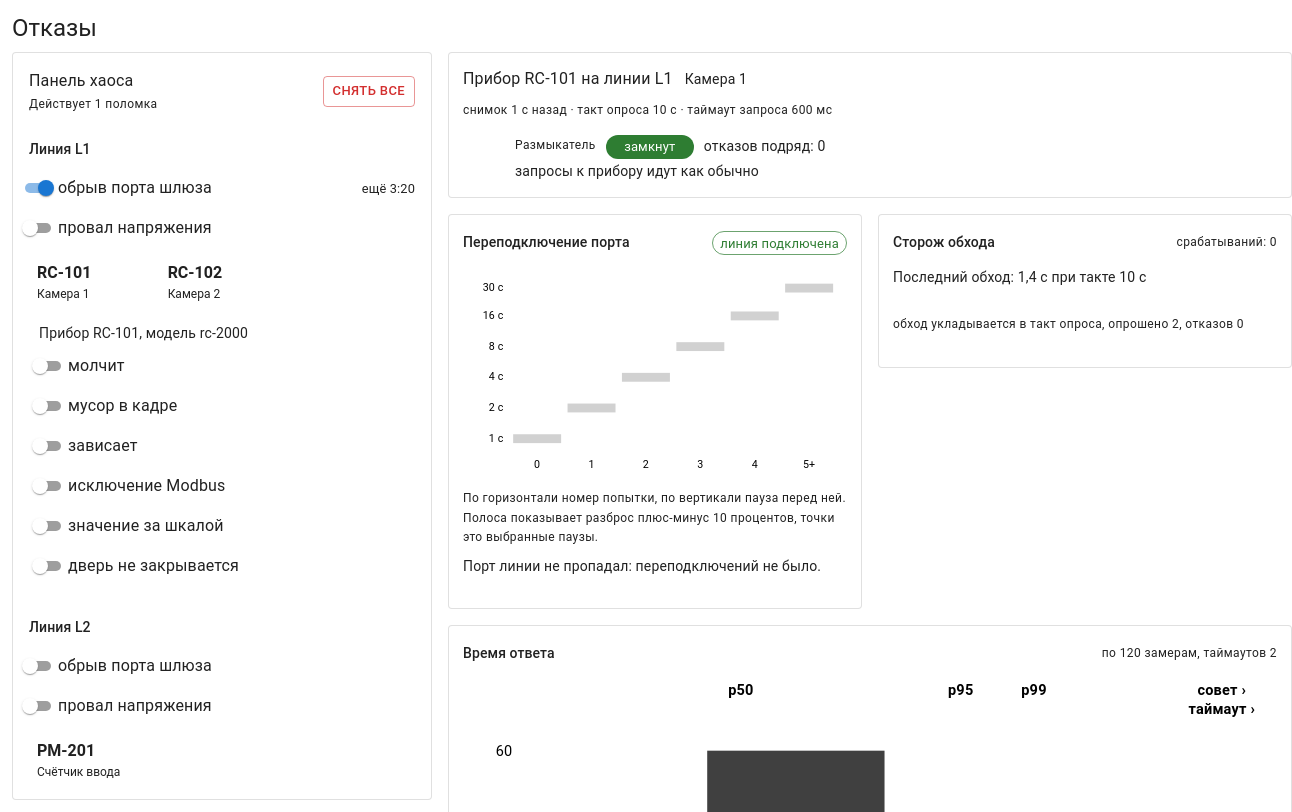
лаборатория отказов › выбор прибора в панели меняет приборы защиты
Expected: the heading "Прибор RC-101 на линии L1" is shown, [463,65,673,93]
Click the button "RC-102 Камера 2": [222, 281] box [160,255,284,307]
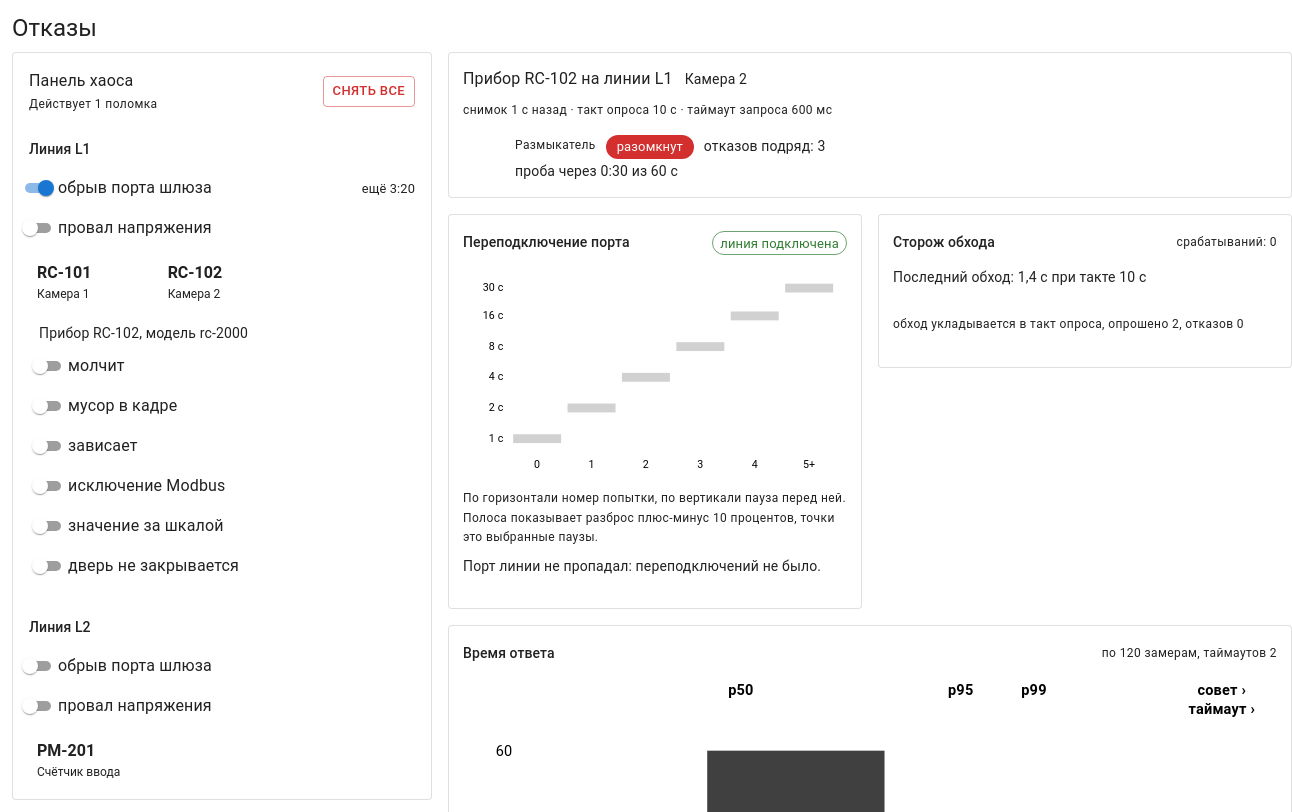
Expected: the element named "Поломки прибора RC-102" is shown, [32,356,239,575]
Result: the heading "Прибор RC-102 на линии L1" is shown at [463,65,673,93]
